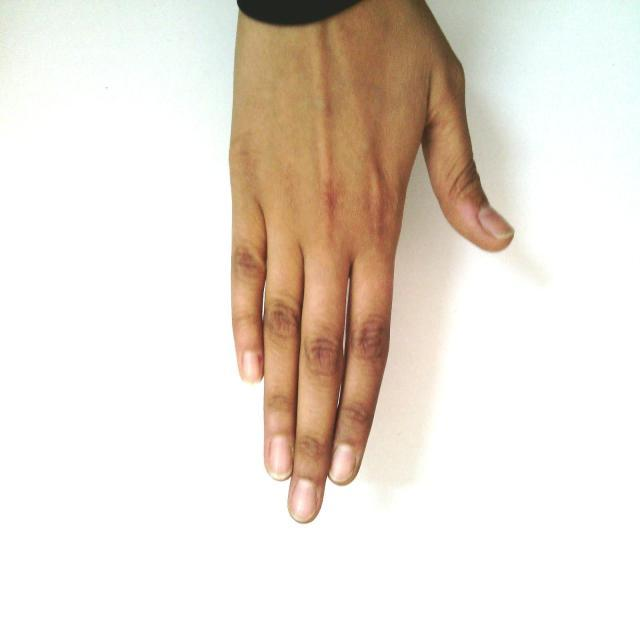Fingernail: (291, 480, 317, 521), (480, 205, 513, 237), (270, 436, 292, 479), (330, 445, 355, 482), (243, 353, 260, 383)
